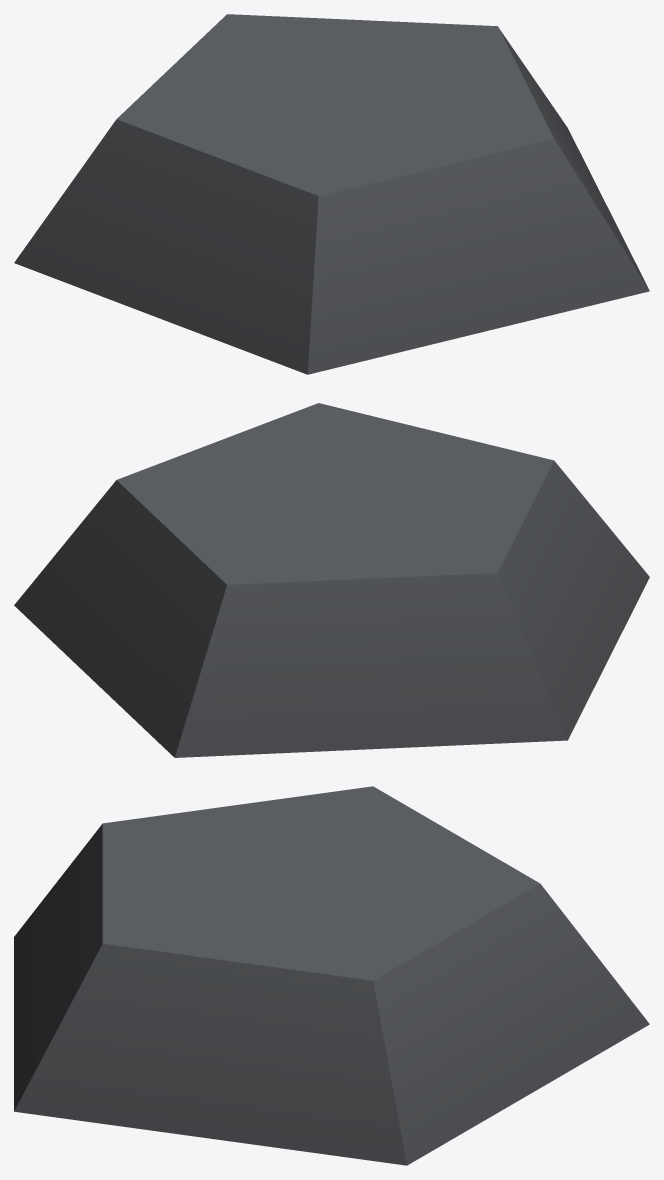
Rendered from rock_A-cXiK309Q.glb.
The picture shows the model from 3 angles, top to bottom: view 1: azimuth 30°, elevation 25°; view 2: azimuth 150°, elevation 25°; view 3: azimuth 270°, elevation 25°; orthographic projection. The views are drawn at different scales.
Visible parts, largest first — view 1: rock_single_A; view 2: rock_single_A; view 3: rock_single_A.
Part boxes in pixels (<box>): rock_single_A: <box>14,14,649,374</box>; rock_single_A: <box>14,403,649,757</box>; rock_single_A: <box>14,786,649,1165</box>.
Size of the model in its own units: 1.48 by 0.343 by 1.4.
Materials: 1 (1 with a texture image).
